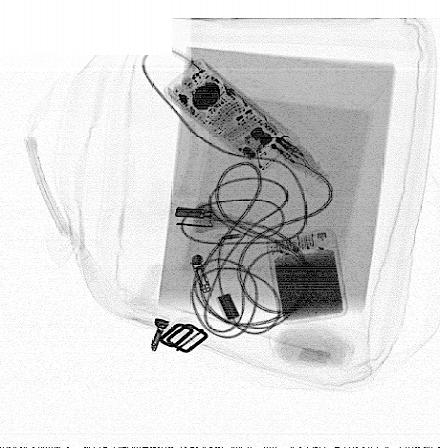Powerbank: (265, 227, 349, 325)
